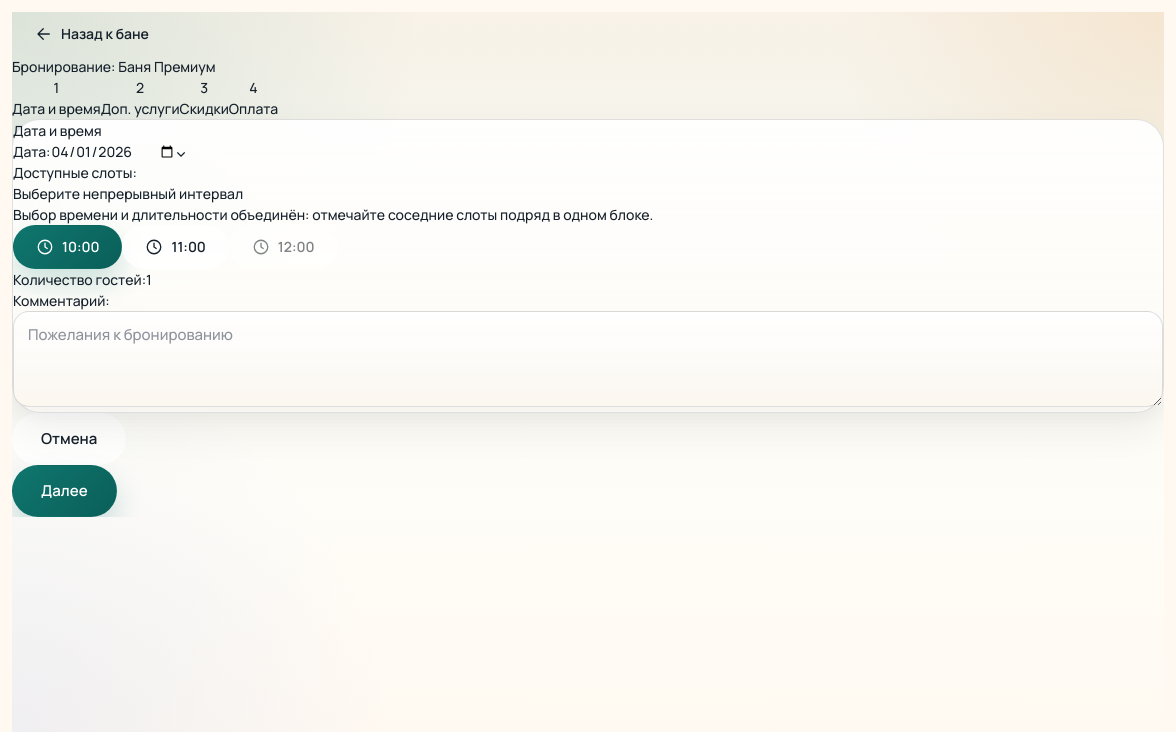
Test: BookingCreate › Step 2: Add-ons › shows empty state when no add-ons
Click the button "Далее": coordinates (64, 491) [12,465,117,517]
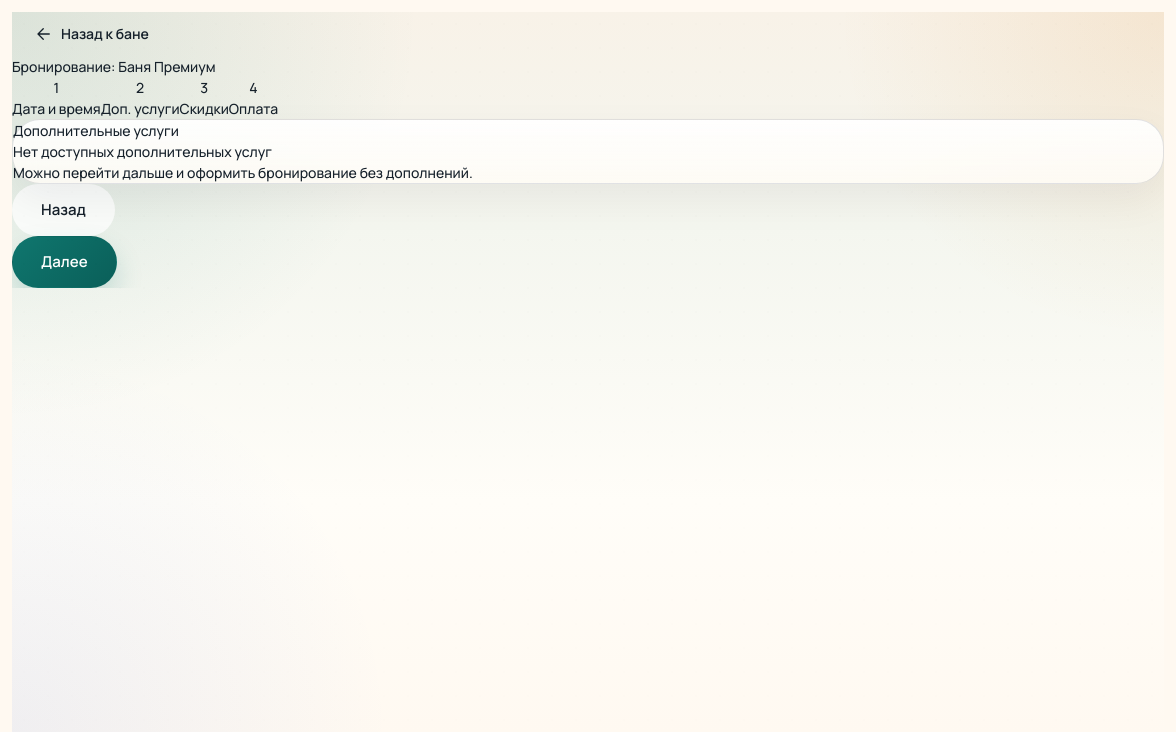
Check: the text "Нет доступных дополнительных услуг" is shown, box [13,142,272,161]
